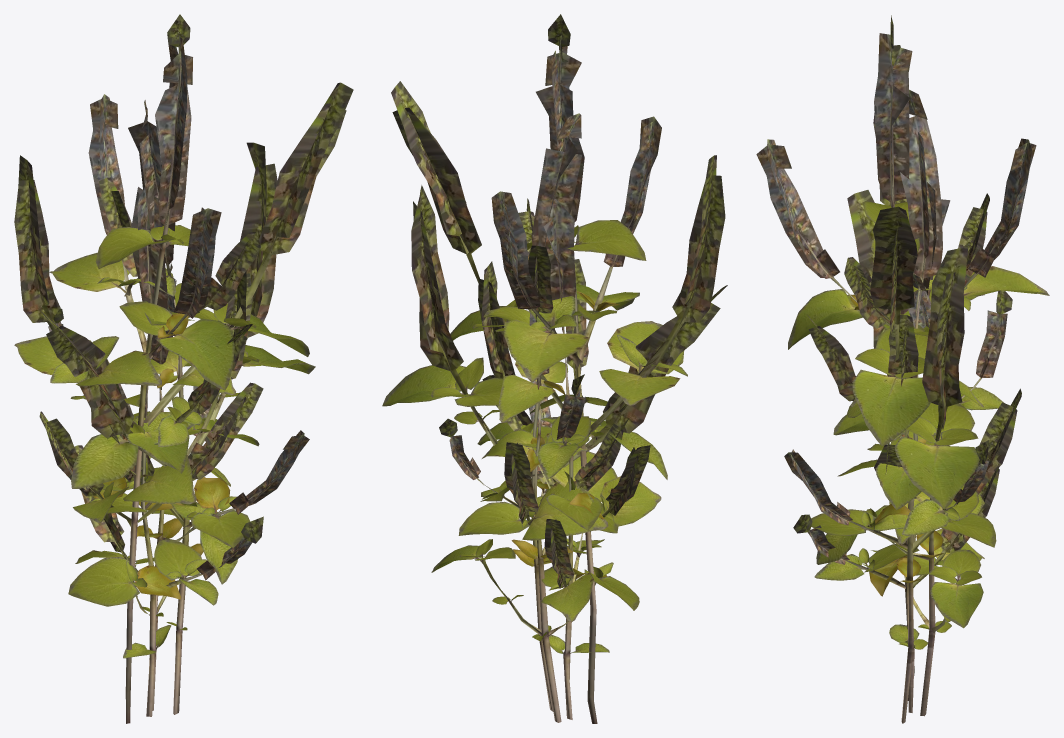
Rendered from shrub_03.glb.
3 renders of one model, left to right at view 1: azimuth 30°, elevation 25°; view 2: azimuth 150°, elevation 25°; view 3: azimuth 270°, elevation 25°, orthographic. The views are drawn at different scales.
Visible parts, largest first — view 1: shrub_03_a; view 2: shrub_03_a; view 3: shrub_03_a.
Part boxes in pixels (bbox=[...]): shrub_03_a: bbox=[14, 14, 353, 723]; shrub_03_a: bbox=[382, 14, 727, 723]; shrub_03_a: bbox=[756, 15, 1049, 723].
Size of the model in its own units: 0.2006 by 0.4028 by 0.1512.
1 material, 1 textured.
